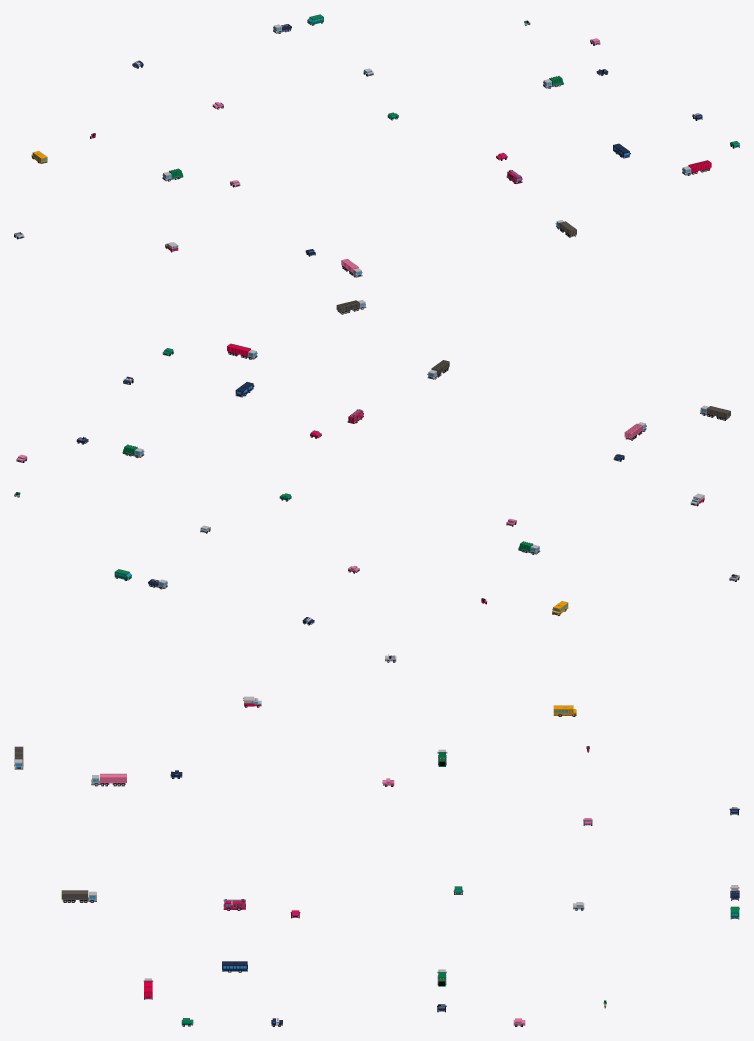
Rendered from city-cars.gltf.
3 renders of one model, top to bottom at view 1: azimuth 30°, elevation 25°; view 2: azimuth 150°, elevation 25°; view 3: azimuth 270°, elevation 25°, orthographic. The views are drawn at different scales.
Size of the model in its own units: 152 by 3.4 by 127.
21 materials, 21 textured.
